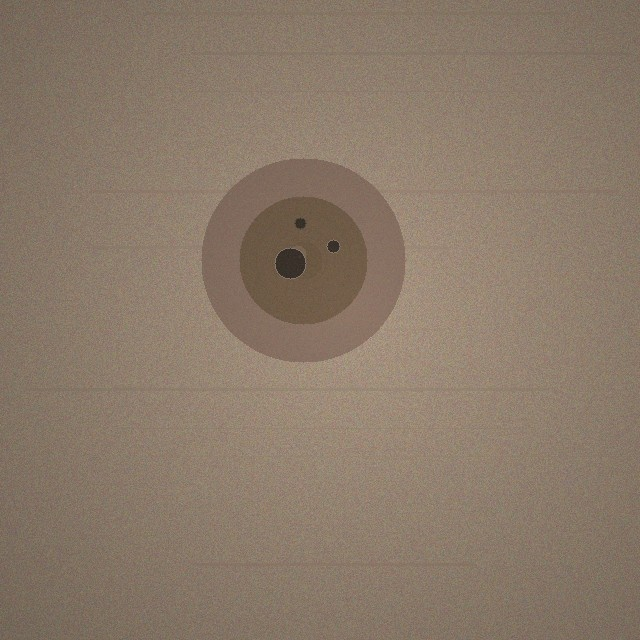shrinkage: (201, 158, 405, 362)
